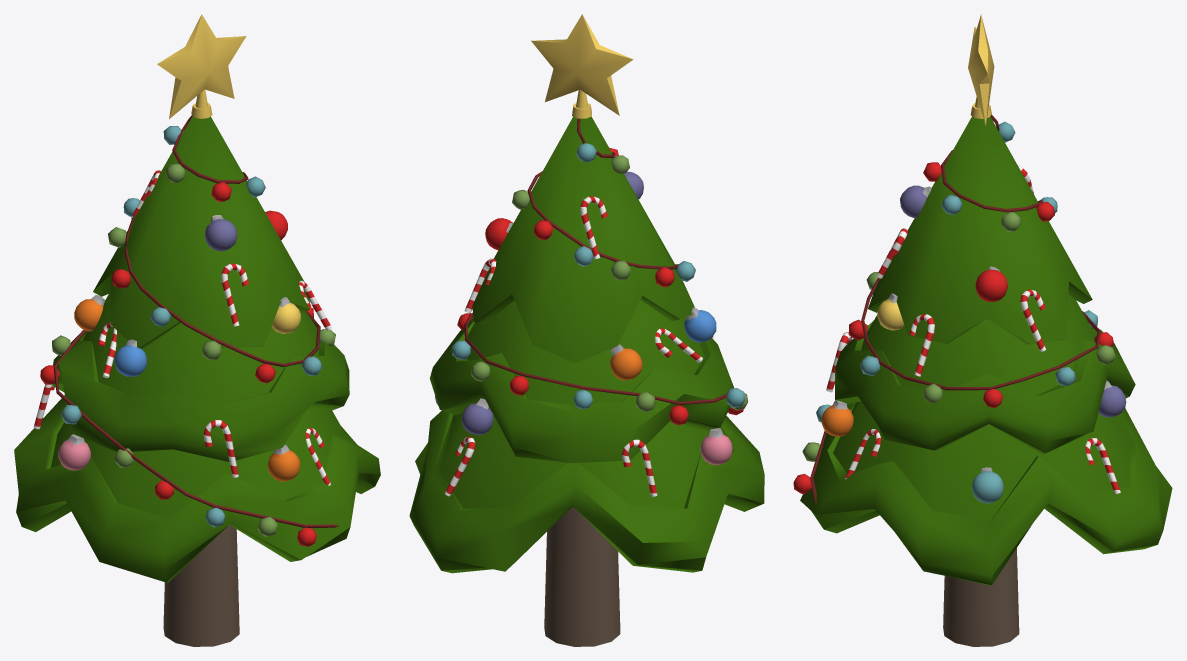
File: Christmas_Tree_5.glb
3 views of the same model, side by side, from view 1: azimuth 30°, elevation 25°; view 2: azimuth 150°, elevation 25°; view 3: azimuth 270°, elevation 25° (orthographic).
Visible parts, largest first — view 1: Christmas_Tree_5; view 2: Christmas_Tree_5; view 3: Christmas_Tree_5.
Part boxes in pixels (x1,y1,x2,y2): Christmas_Tree_5: [14, 14, 380, 646]; Christmas_Tree_5: [409, 14, 764, 646]; Christmas_Tree_5: [793, 14, 1172, 646].
Size of the model in its own units: 2.26 by 4.22 by 2.35.
1 material, 1 textured.
